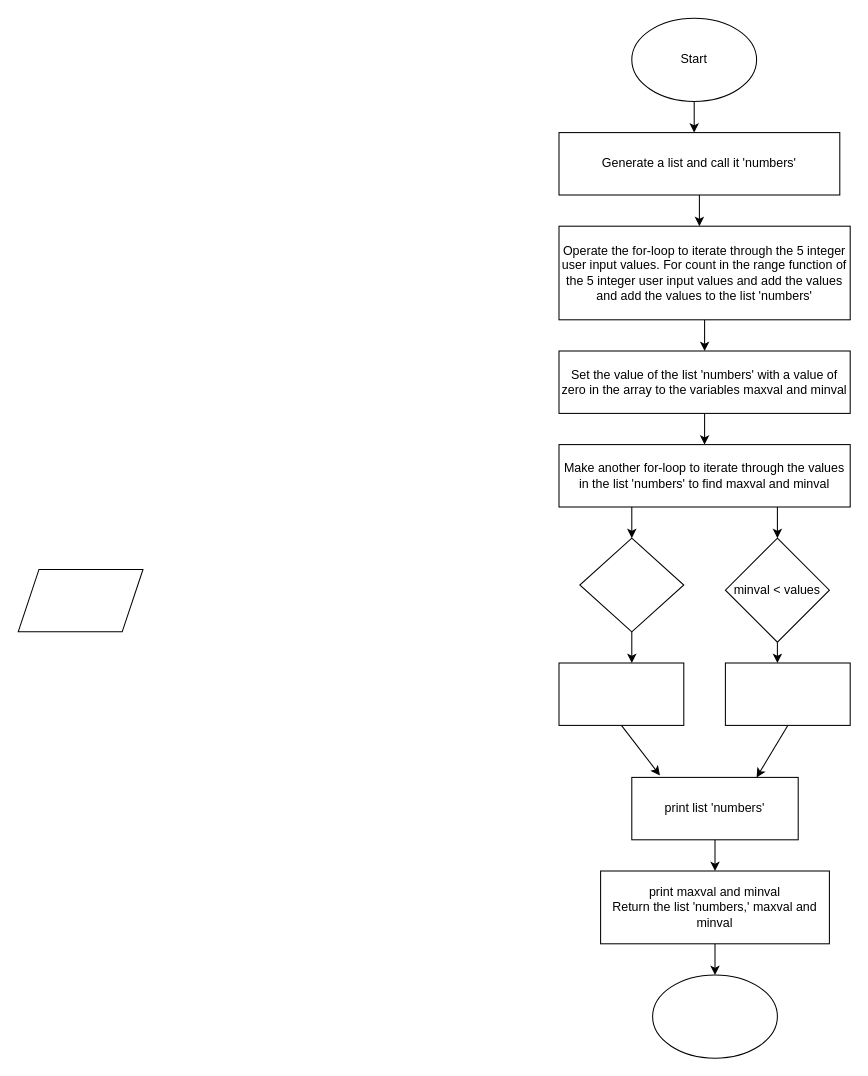
Image size: 868x1076. Some labels were removed from this diagram. Each missing label, with the box of its shape:
End: (652, 974, 777, 1058)
maxval = values: (558, 662, 684, 725)
maxval > values: (579, 537, 684, 632)
minval = values: (724, 662, 850, 725)
